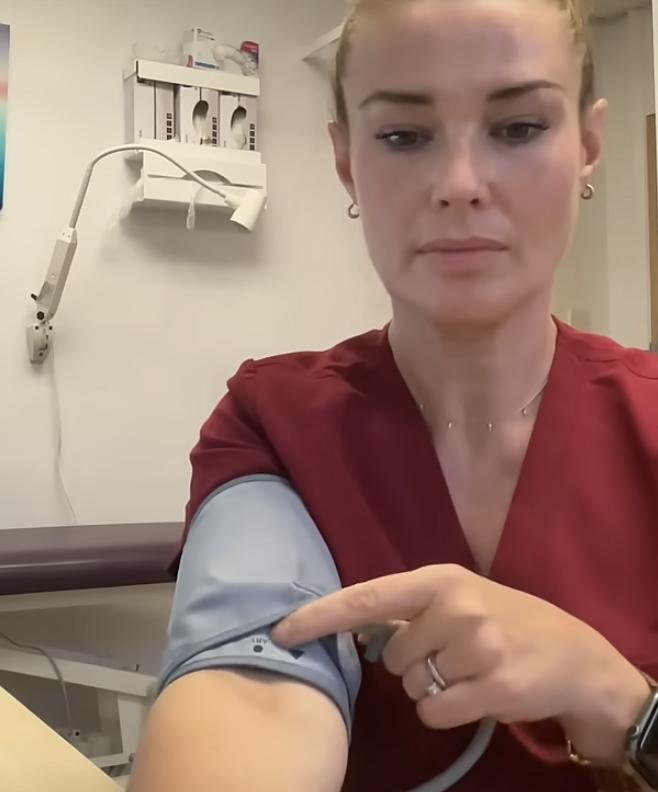cuff: (156, 470, 360, 728)
